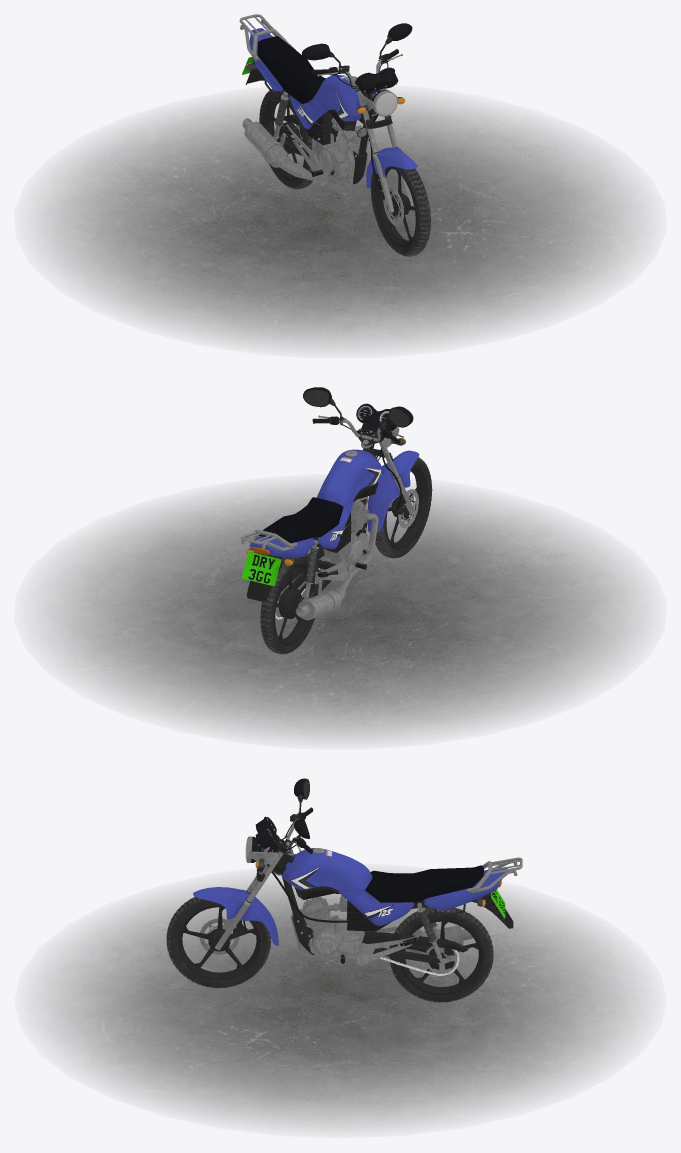
The model's file is bike_125cc.glb.
The picture shows the model from 3 angles, top to bottom: view 1: azimuth 30°, elevation 25°; view 2: azimuth 150°, elevation 25°; view 3: azimuth 270°, elevation 25°; orthographic projection.
Parts seen in each view (by area): view 1: Circle.001, Cube, Cylinder.061, Cylinder.022, Plane.001, Cylinder.063, Cylinder, Plane.002, Cylinder.007, Cylinder.002, Cube.012, Plane.061 (+4 smaller); view 2: Circle.001, Plane.001, Cube, Cylinder.063, Cylinder.061, Plane.002, Cylinder.022, Plane.056, Cube.012, Plane.013, Plane.006, Cylinder.002 (+3 smaller); view 3: Circle.001, Cylinder.063, Cylinder.061, Cube, Plane.001, Plane.002, Cylinder.007, Plane.006, Plane.013, Cylinder, Plane.011, Plane.010 (+7 smaller).
Boxes of the visible parts, box(x1,y1,x2,y2) form: Circle.001: box(31, 92, 649, 351); Cube: box(257, 36, 325, 103); Cylinder.061: box(370, 166, 430, 256); Cylinder.022: box(242, 118, 355, 194); Plane.001: box(314, 75, 375, 121); Cylinder.063: box(259, 89, 312, 189); Cylinder: box(356, 89, 413, 212); Plane.002: box(366, 147, 417, 188); Cylinder.007: box(319, 136, 368, 184); Cylinder.002: box(355, 67, 398, 93); Cube.012: box(301, 23, 412, 60); Plane.061: box(370, 168, 430, 256); Circle.001: box(31, 481, 649, 742); Plane.001: box(316, 449, 381, 506); Cube: box(258, 497, 343, 543); Cylinder.063: box(260, 554, 319, 654); Cylinder.061: box(375, 458, 431, 557); Plane.002: box(367, 450, 419, 532); Cylinder.022: box(295, 513, 378, 620); Plane.056: box(242, 551, 281, 586); Cube.012: box(303, 387, 413, 427); Plane.013: box(249, 536, 314, 557); Plane.006: box(318, 500, 353, 548); Cylinder.002: box(356, 403, 396, 429); Circle.001: box(32, 871, 648, 1130); Cylinder.063: box(389, 907, 493, 1002); Cylinder.061: box(166, 897, 270, 987); Cube: box(365, 865, 483, 902); Plane.001: box(282, 848, 372, 891); Plane.002: box(193, 887, 278, 945); Cylinder.007: box(310, 917, 364, 961); Plane.006: box(338, 889, 413, 925); Plane.013: box(424, 868, 507, 910); Cylinder: box(214, 839, 284, 950); Plane.011: box(362, 931, 468, 952); Plane.010: box(356, 926, 418, 965).
Bounding box in the file's own units: 29406 × 9974 × 29406.
2 materials, 2 textured.
